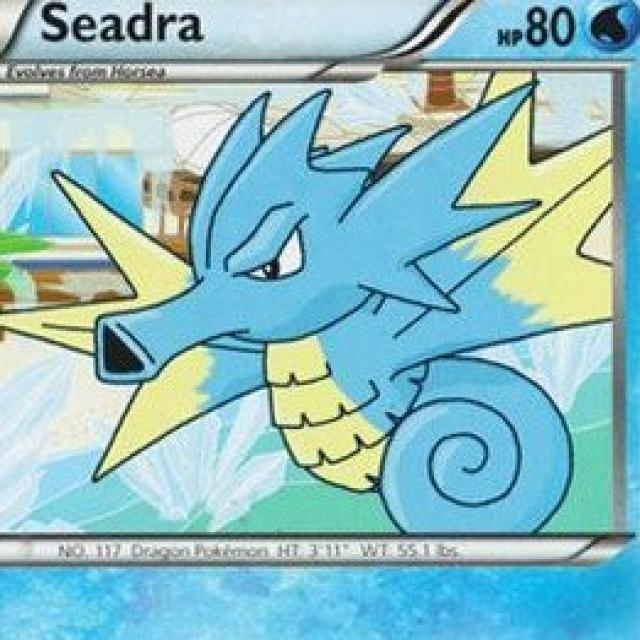Seadra: (98, 90, 557, 527)
